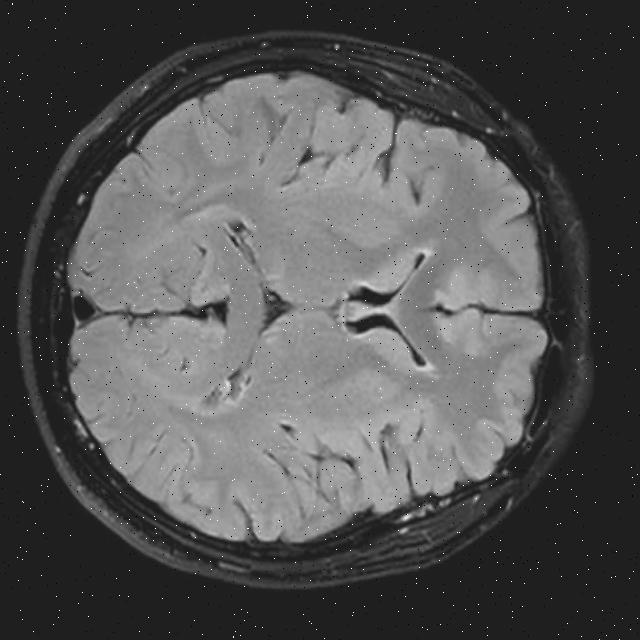NoTumor: (1, 23, 611, 599)
